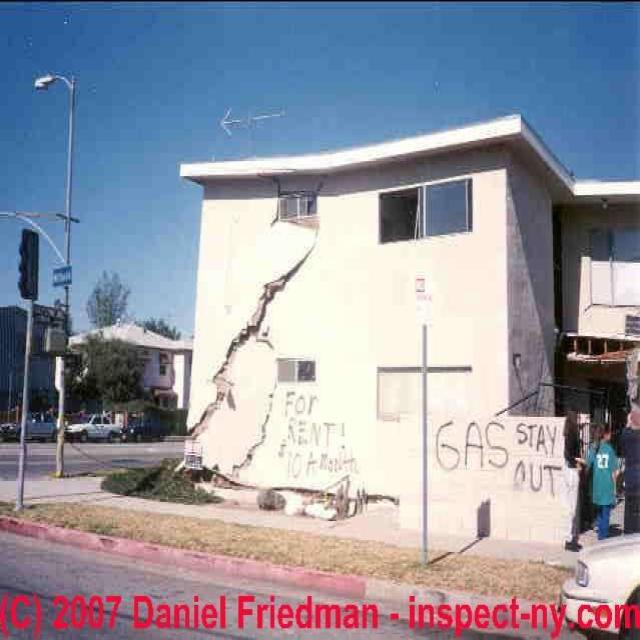diagonal crack: (185, 233, 329, 450), (221, 375, 286, 478), (314, 172, 343, 194), (264, 175, 283, 191), (263, 217, 280, 231)
